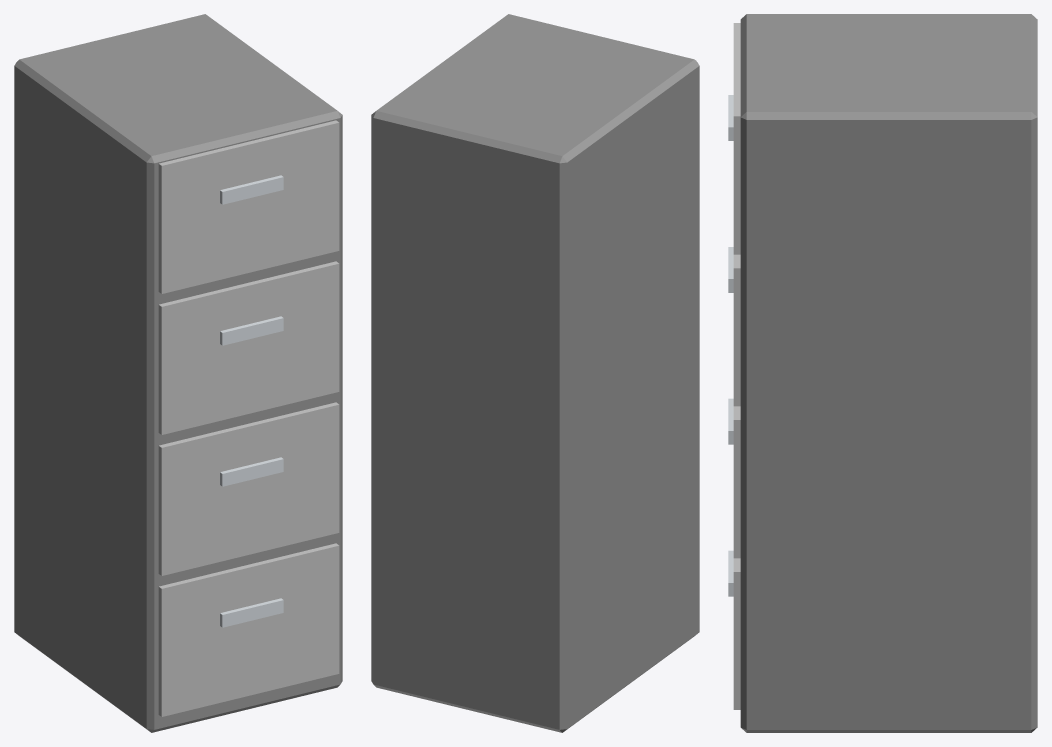
File: FUR_FilingCabinet_Frac.fbx
3 views of the same model, side by side, from view 1: azimuth 30°, elevation 25°; view 2: azimuth 150°, elevation 25°; view 3: azimuth 270°, elevation 25° (orthographic). The views are drawn at different scales.
Parts seen in each view (by area): view 1: FUR_FilingCabinet_Frac_1, FUR_FilingCabinet_Frac_3, FUR_FilingCabinet_Frac_4, FUR_FilingCabinet_Frac_2; view 2: FUR_FilingCabinet_Frac_1, FUR_FilingCabinet_Frac_4, FUR_FilingCabinet_Frac_2, FUR_FilingCabinet_Frac_3; view 3: FUR_FilingCabinet_Frac_1, FUR_FilingCabinet_Frac_4, FUR_FilingCabinet_Frac_3.
Boxes of the visible parts, left/top/right/bottom form: FUR_FilingCabinet_Frac_1: left=44, top=14, right=342, bottom=689; FUR_FilingCabinet_Frac_3: left=14, top=426, right=330, bottom=732; FUR_FilingCabinet_Frac_4: left=14, top=53, right=223, bottom=410; FUR_FilingCabinet_Frac_2: left=14, top=349, right=247, bottom=594; FUR_FilingCabinet_Frac_1: left=371, top=14, right=688, bottom=662; FUR_FilingCabinet_Frac_4: left=458, top=58, right=699, bottom=478; FUR_FilingCabinet_Frac_2: left=371, top=314, right=699, bottom=699; FUR_FilingCabinet_Frac_3: left=371, top=344, right=699, bottom=732; FUR_FilingCabinet_Frac_1: left=728, top=17, right=1037, bottom=732; FUR_FilingCabinet_Frac_4: left=733, top=14, right=1037, bottom=32; FUR_FilingCabinet_Frac_3: left=728, top=398, right=1036, bottom=732.
Size of the model in its own units: 1.6 by 4.5 by 2.03.
